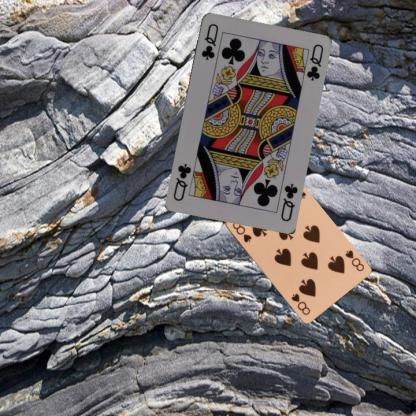8s: (342, 247, 365, 273), (230, 218, 252, 244)
Qc: (278, 180, 299, 223), (198, 20, 219, 61)
